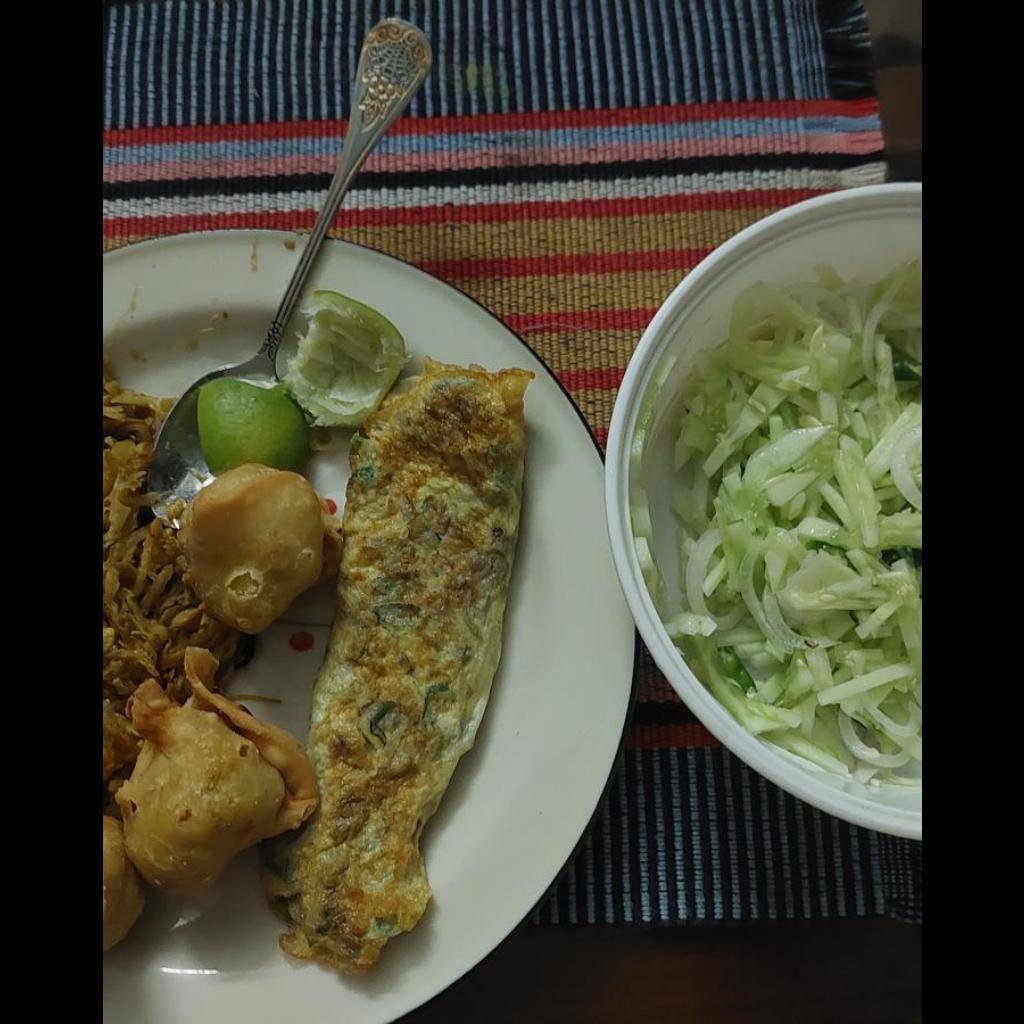egg-poached: (267, 360, 534, 969)
lemon: (197, 295, 404, 471)
puri: (102, 465, 326, 950)
salad: (633, 250, 920, 777)
vaji: (102, 363, 251, 817)
